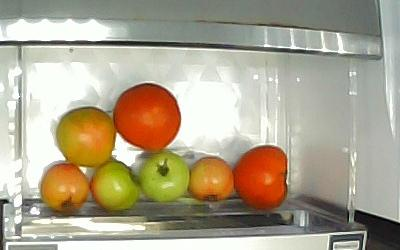tomato: (114, 83, 182, 152), (56, 105, 115, 167), (233, 145, 288, 211), (38, 161, 90, 214), (139, 151, 190, 204), (89, 159, 140, 212), (189, 154, 234, 201)
